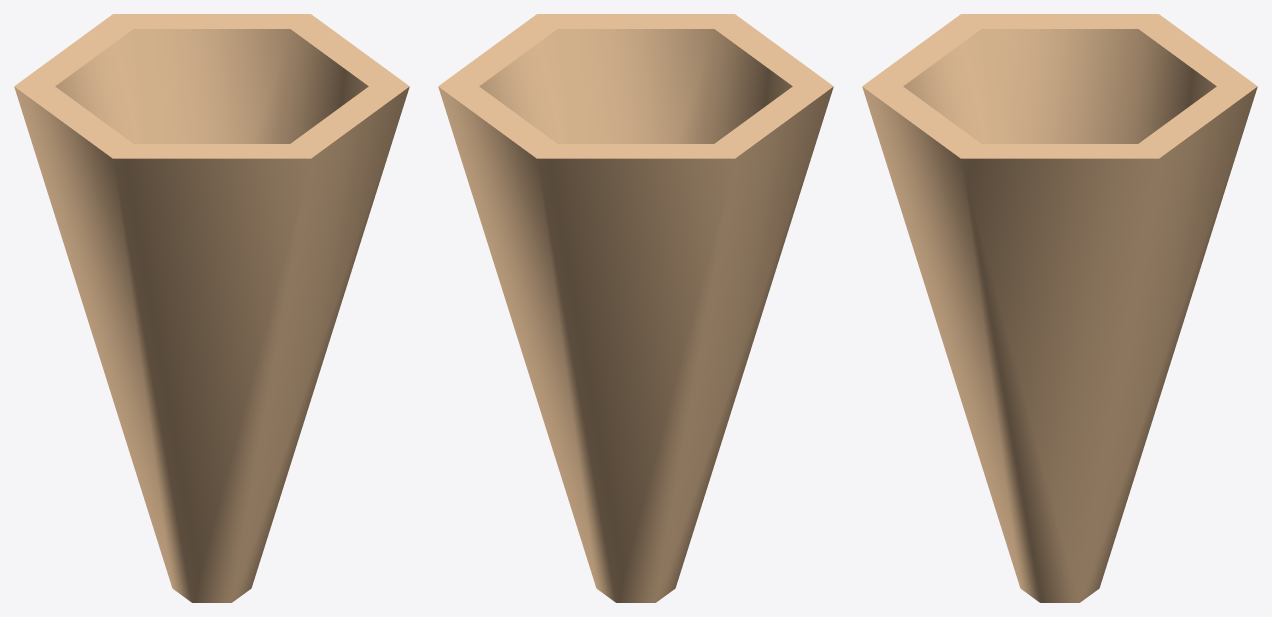
The model's file is iceCreamCone.obj.
3 renders of one model, left to right at view 1: azimuth 30°, elevation 25°; view 2: azimuth 150°, elevation 25°; view 3: azimuth 270°, elevation 25°, orthographic.
Visible parts, largest first — view 1: iceCreamCone; view 2: iceCreamCone; view 3: iceCreamCone.
Boxes of the visible parts, x1,y1,x2,y2 form: iceCreamCone: (14,14,409,602); iceCreamCone: (438,14,833,602); iceCreamCone: (862,14,1257,602).
Bounding box in the file's own units: 0.1845 × 0.2982 × 0.213.
